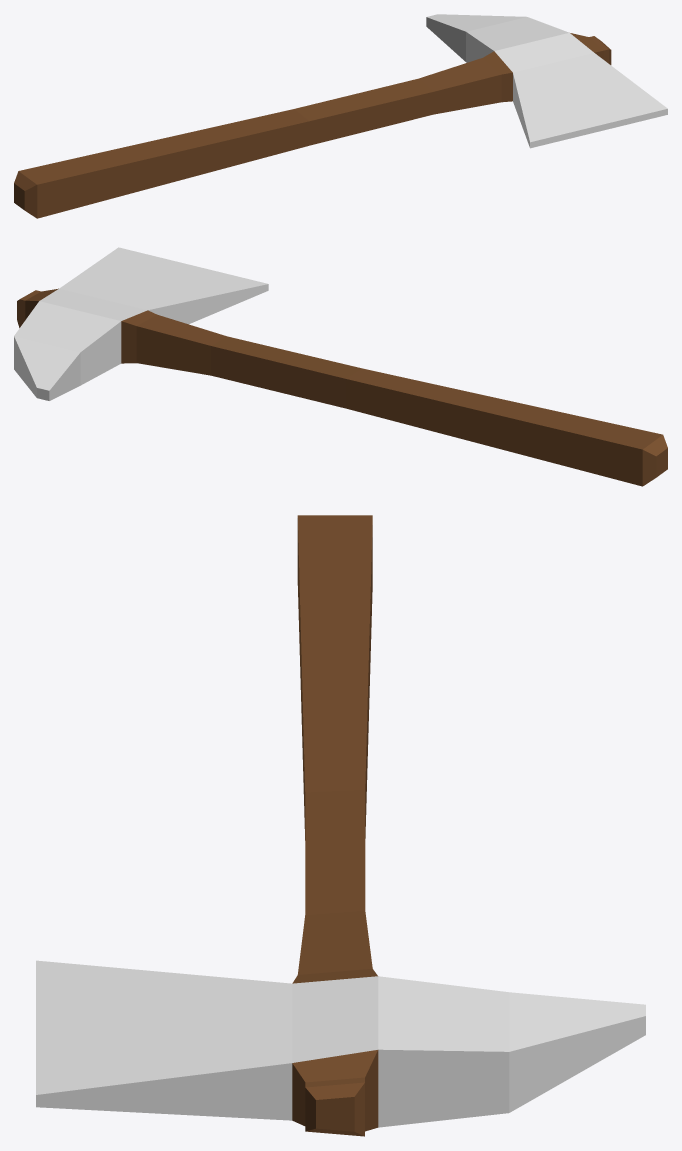
File: fireAxe.fbx
The picture shows the model from 3 angles, top to bottom: view 1: azimuth 30°, elevation 25°; view 2: azimuth 150°, elevation 25°; view 3: azimuth 270°, elevation 25°; orthographic projection. The views are drawn at different scales.
Parts seen in each view (by area): view 1: Axe; view 2: Axe; view 3: Axe.
Part boxes in pixels (x1,y1,x2,y2): Axe: [14, 14, 667, 218]; Axe: [14, 247, 667, 486]; Axe: [36, 515, 645, 1136].
Size of the model in its own units: 116 by 7.32 by 52.
